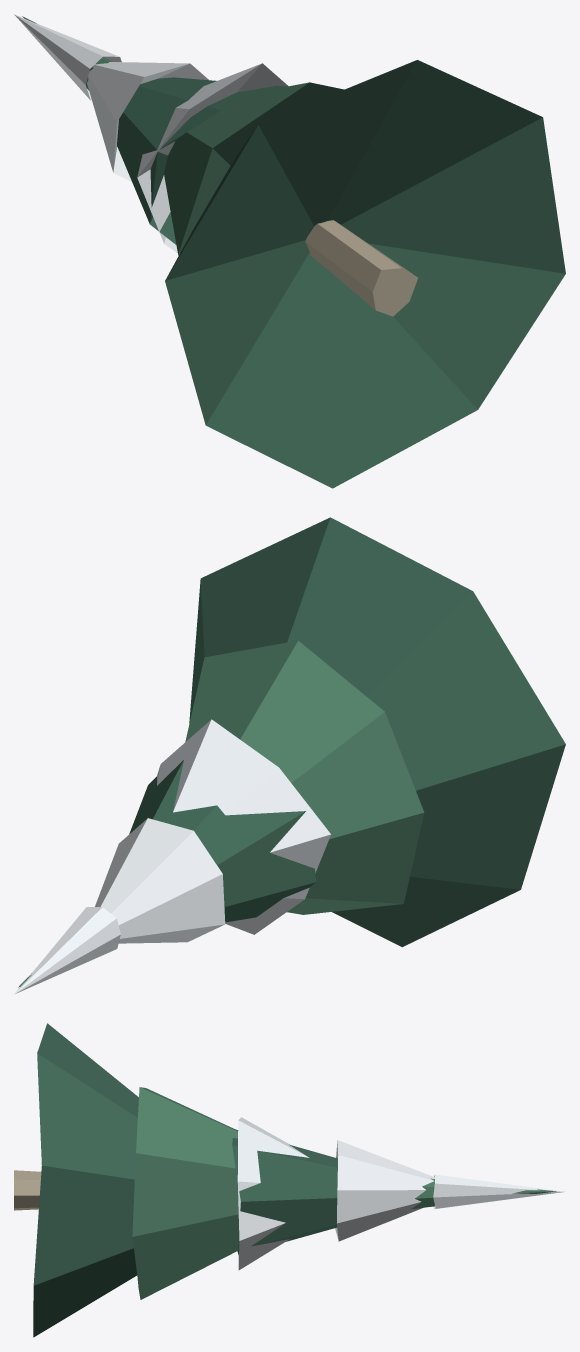
File: TreeConiferC1.fbx
3 renders of one model, top to bottom at view 1: azimuth 30°, elevation 25°; view 2: azimuth 150°, elevation 25°; view 3: azimuth 270°, elevation 25°, orthographic. The views are drawn at different scales.
Visible parts, largest first — view 1: M_Tree_Pine_Dark, M_Tree_Snow, M_Tree_Pine_Mid, M_Tree_PaleWood; view 2: M_Tree_Pine_Dark, M_Tree_Pine_Mid, M_Tree_Snow; view 3: M_Tree_Pine_Dark, M_Tree_Pine_Mid, M_Tree_Snow, M_Tree_PaleWood.
Part boxes in pixels (x1,y1,x2,y2): M_Tree_Pine_Dark: (117,60,565,488); M_Tree_Snow: (14,14,288,253); M_Tree_Pine_Mid: (22,16,343,255); M_Tree_PaleWood: (305,220,417,316); M_Tree_Pine_Dark: (129,517,565,947); M_Tree_Pine_Mid: (18,640,424,987); M_Tree_Snow: (14,719,330,994); M_Tree_Pine_Dark: (33,1023,337,1337); M_Tree_Pine_Mid: (132,1087,556,1299); M_Tree_Snow: (237,1117,565,1270); M_Tree_PaleWood: (14,1170,41,1210).
Bounding box in the file's own units: 2272 × 2291 × 3799.
